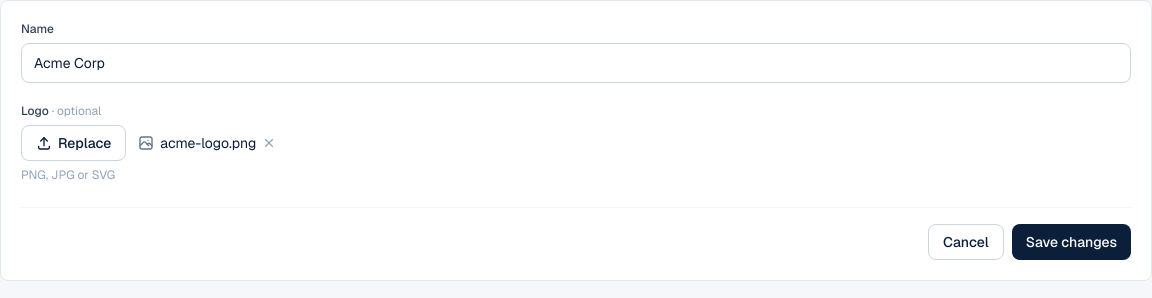
Test: SaveTenantForm › removes the logo
Click the button named "Remove logo".
click(269, 143)  # box [262,136,276,150]
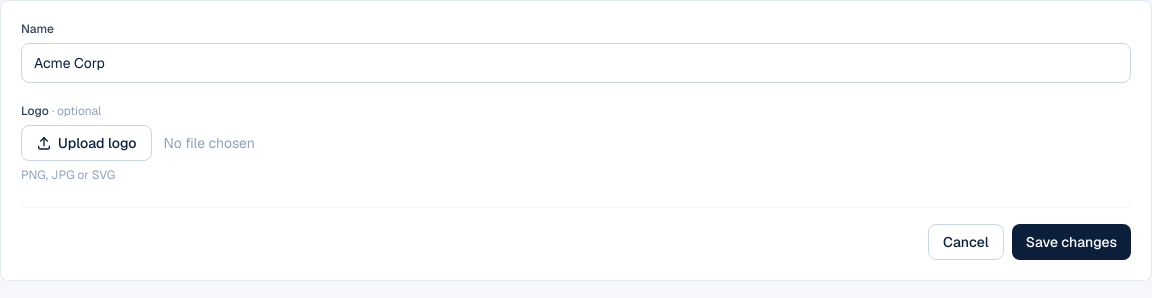
Expected: the text "No file chosen" is shown, [164,133,255,153]
